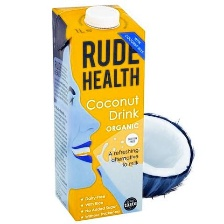carton: (50, 2, 146, 221)
